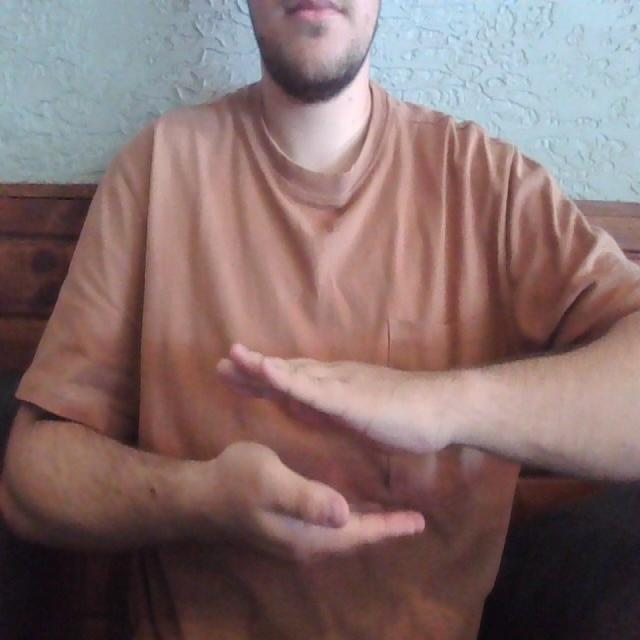Arkadas: (93, 330, 540, 564)
